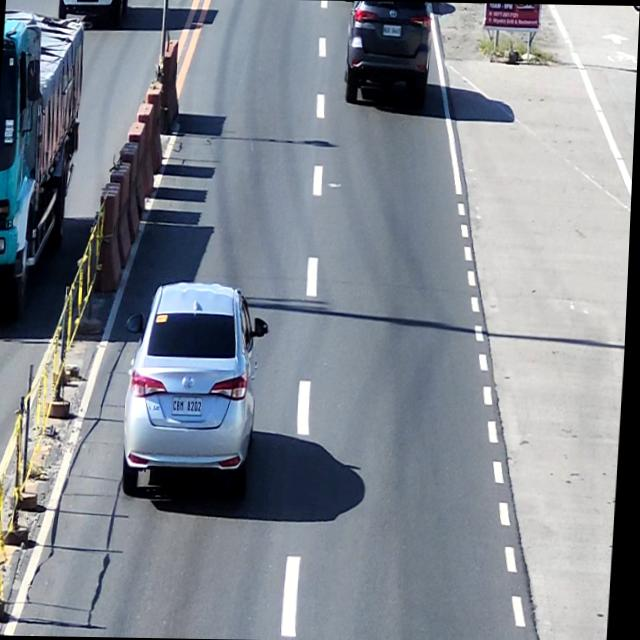Car: (116, 267, 271, 515), (343, 0, 436, 114)
License-Plate: (173, 392, 208, 422), (382, 20, 402, 42)
Truck: (0, 12, 77, 316)
